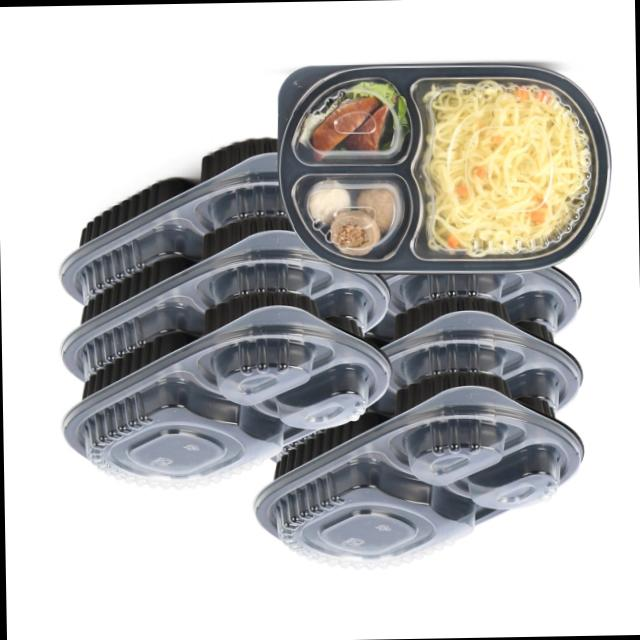plastic_box: (46, 145, 397, 468), (273, 276, 590, 570), (257, 37, 609, 296)
